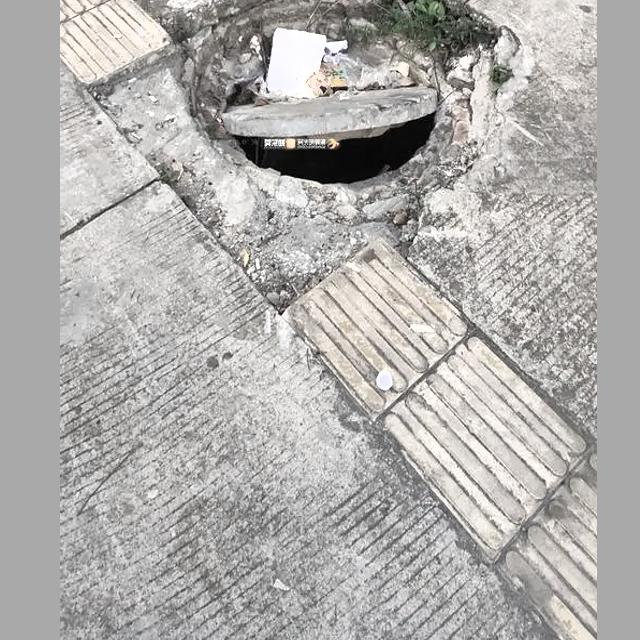circle: (111, 0, 550, 289)
